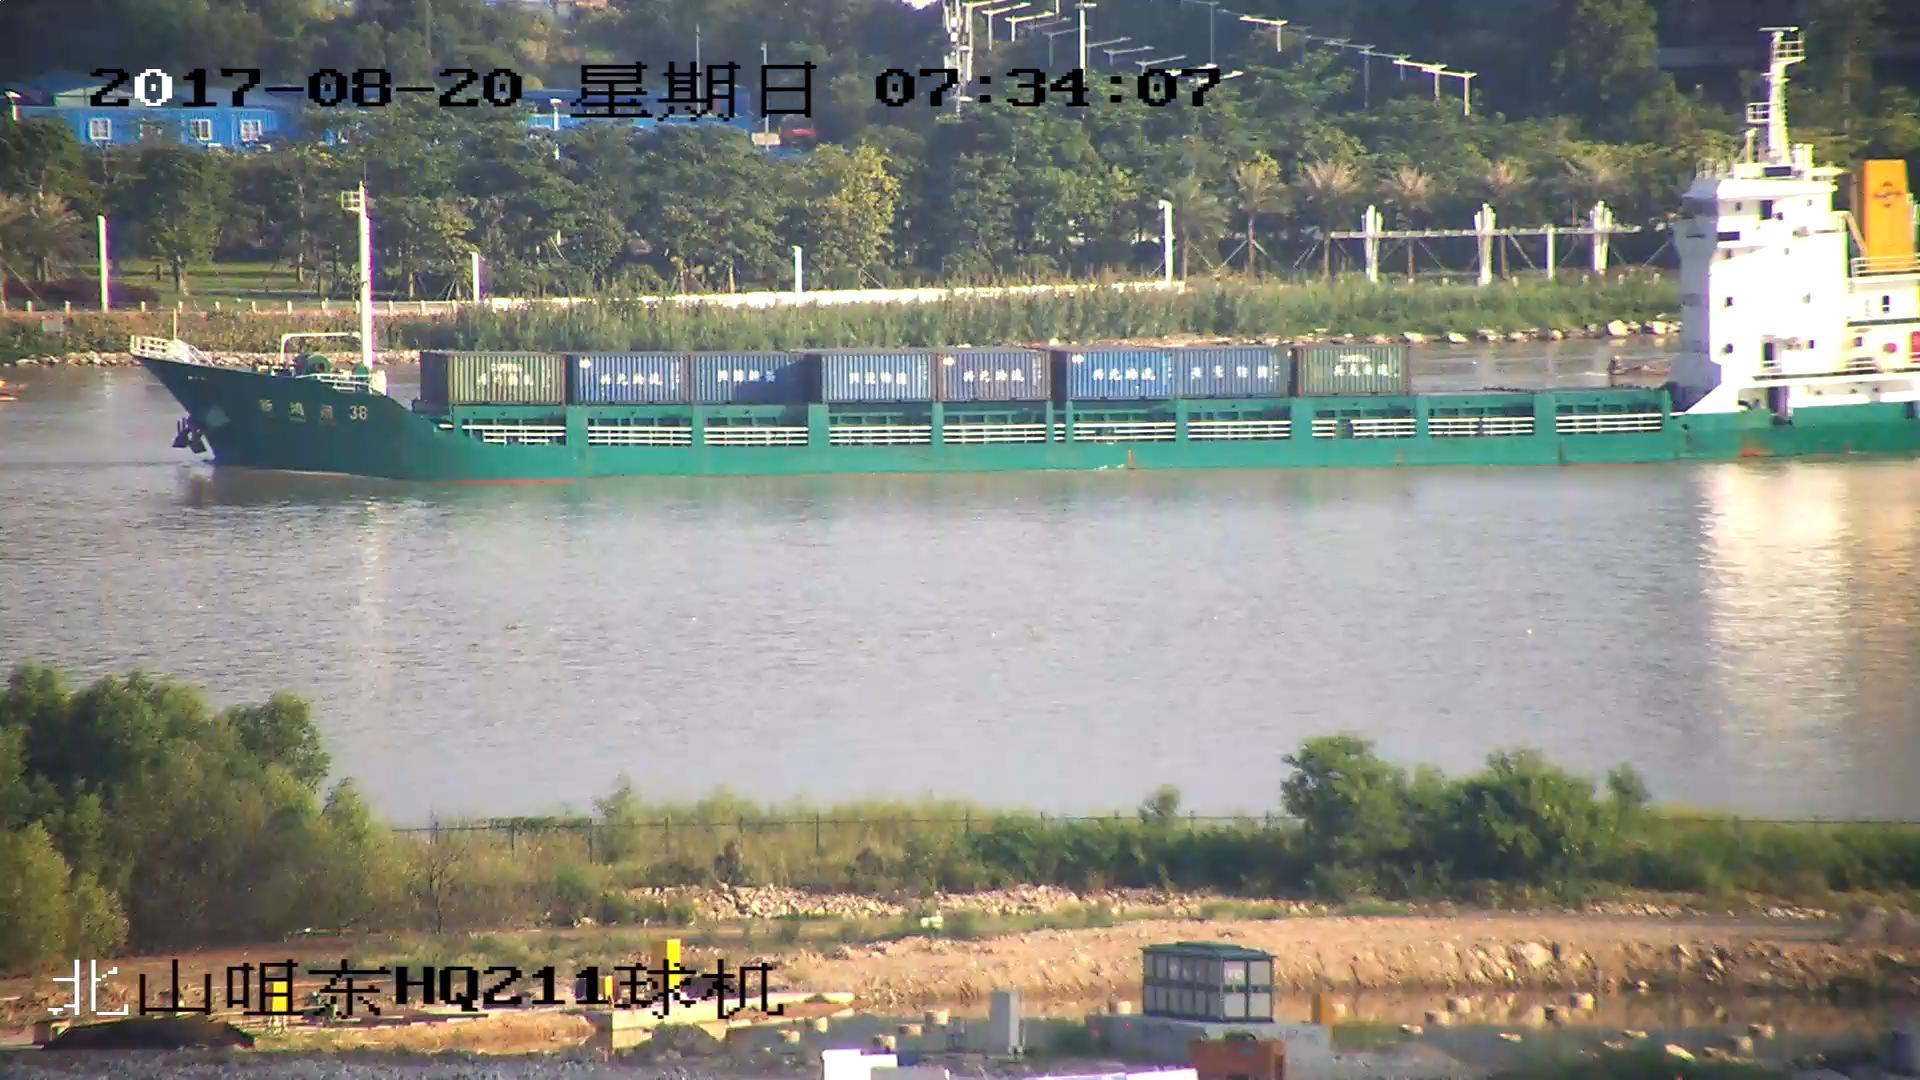Ship: (131, 113, 1920, 487)
